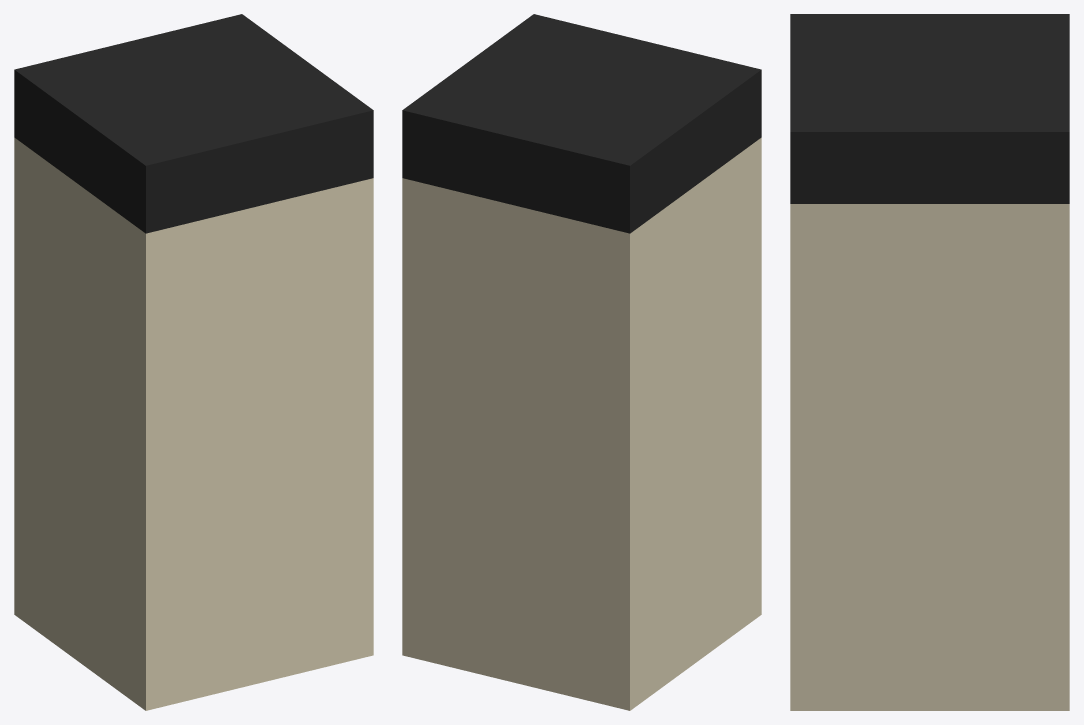
The model's file is wall_plain.glb.
3 views of the same model, side by side, from view 1: azimuth 30°, elevation 25°; view 2: azimuth 150°, elevation 25°; view 3: azimuth 270°, elevation 25° (orthographic). The views are drawn at different scales.
Visible parts, largest first — view 1: wall_plain; view 2: wall_plain; view 3: wall_plain.
Part boxes in pixels (box(x1,y1,x2,y2)): wall_plain: box(14, 14, 373, 710); wall_plain: box(402, 14, 761, 710); wall_plain: box(790, 14, 1069, 710).
Bounding box in the file's own units: 1 × 2.29 × 1.
